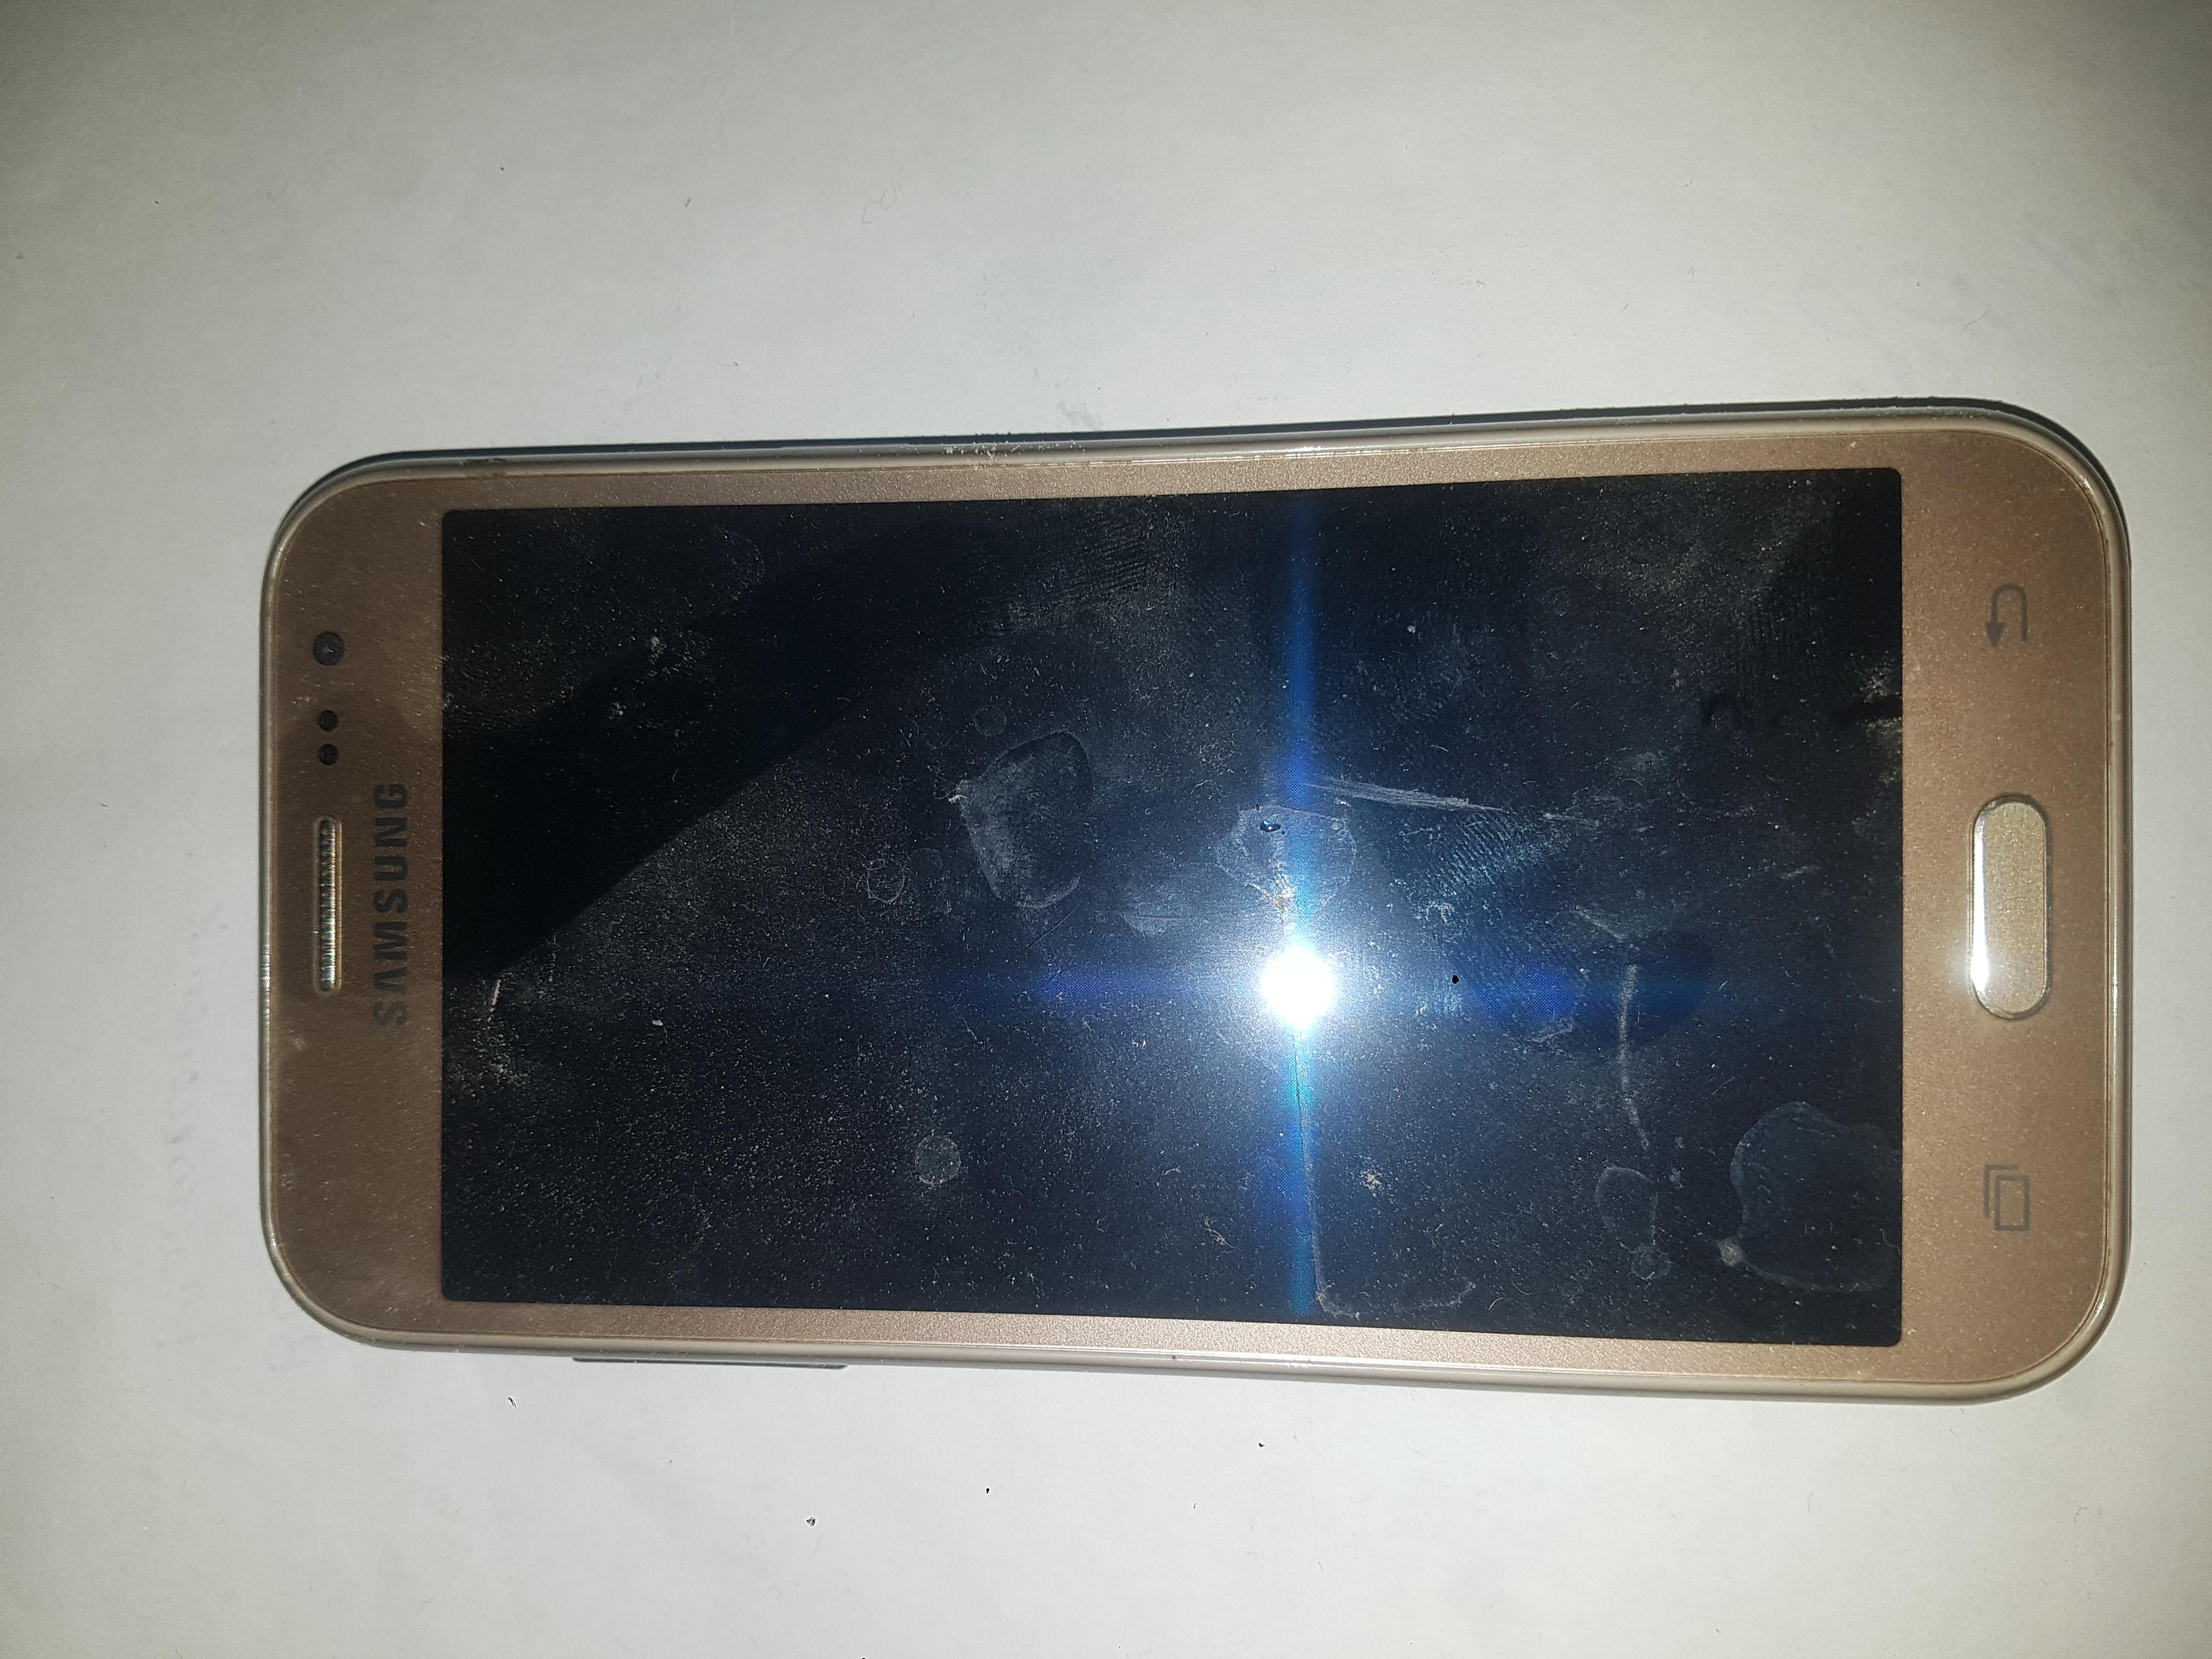electronic: (68, 234, 1968, 1270)
